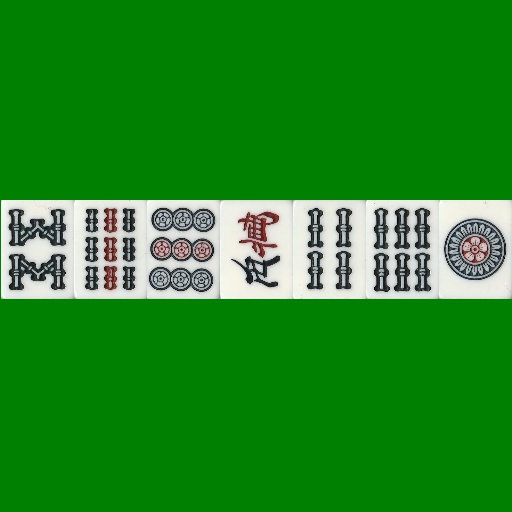1p: (439, 200, 512, 299)
4s: (293, 200, 366, 299)
5m: (220, 200, 293, 299)
6s: (366, 200, 439, 299)
8s: (1, 200, 74, 299)
9p: (147, 200, 220, 299)
9s: (74, 200, 147, 299)
